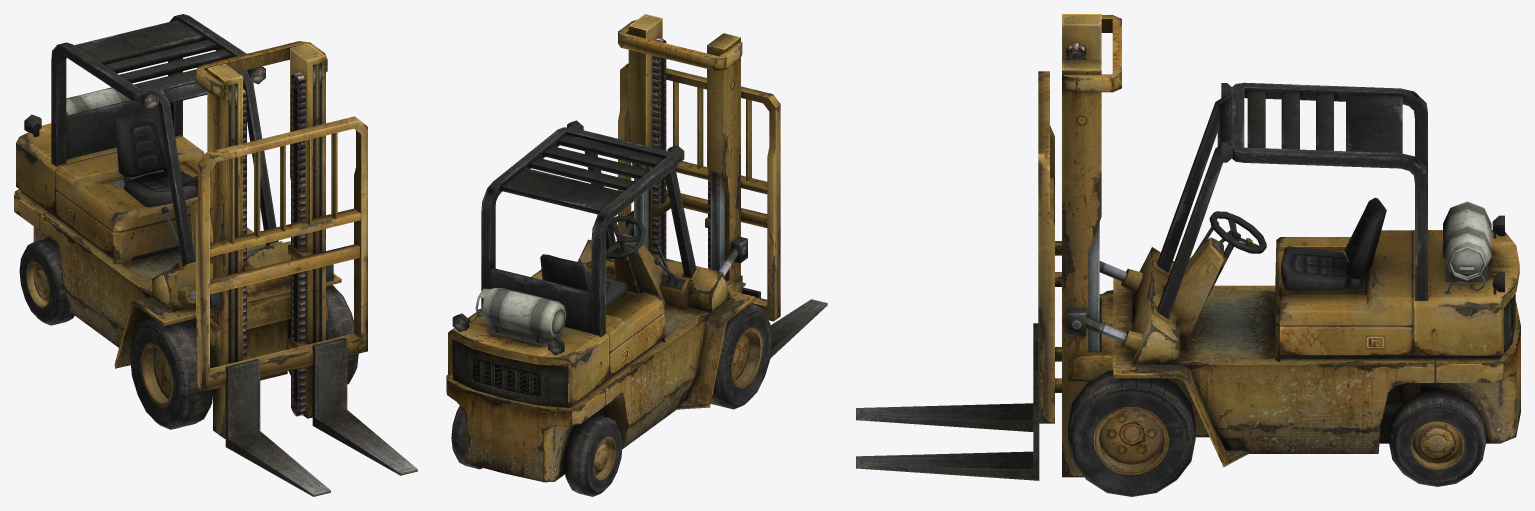
File: Forklift.FBX
3 renders of one model, left to right at view 1: azimuth 30°, elevation 25°; view 2: azimuth 150°, elevation 25°; view 3: azimuth 270°, elevation 25°, orthographic. The views are drawn at different scales.
Parts seen in each view (by area): view 1: Forklift, Blah, 1, F1, F2, 2, 4, H; view 2: Forklift, Blah, 1, 2, H, F1, D, 3; view 3: Forklift, 4, 3, Blah, F2, F1, H, D.
Boxes of the visible parts, left/top/right/bottom form: Forklift: left=14, top=14, right=341, bottom=438; Blah: left=196, top=116, right=367, bottom=391; 1: left=130, top=318, right=213, bottom=429; F1: left=225, top=359, right=330, bottom=496; F2: left=312, top=337, right=417, bottom=475; 2: left=19, top=238, right=74, bottom=325; 4: left=287, top=285, right=358, bottom=384; H: left=66, top=87, right=130, bottom=115; Forklift: left=446, top=14, right=755, bottom=482; Blah: left=618, top=63, right=780, bottom=321; 1: left=710, top=304, right=771, bottom=409; 2: left=564, top=414, right=622, bottom=496; H: left=468, top=288, right=566, bottom=337; F1: left=742, top=287, right=827, bottom=358; D: left=606, top=216, right=645, bottom=258; 3: left=451, top=405, right=482, bottom=469; Forklift: left=1062, top=14, right=1520, bottom=477; 4: left=1068, top=370, right=1195, bottom=496; 3: left=1389, top=390, right=1485, bottom=486; Blah: left=1038, top=71, right=1061, bottom=423; F2: left=856, top=371, right=1039, bottom=480; F1: left=856, top=323, right=1038, bottom=431; H: left=1443, top=201, right=1491, bottom=293; D: left=1209, top=211, right=1266, bottom=253.
Size of the model in its own units: 1.55 by 2.98 by 4.39.
